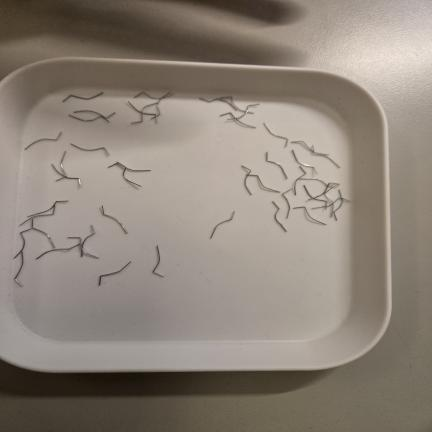probe: (99, 261, 131, 285), (24, 132, 62, 150), (102, 206, 127, 233), (211, 211, 235, 238), (293, 206, 326, 225), (263, 122, 288, 147), (266, 152, 287, 179), (71, 143, 109, 156), (272, 202, 287, 232), (62, 92, 103, 102), (153, 245, 164, 277)
